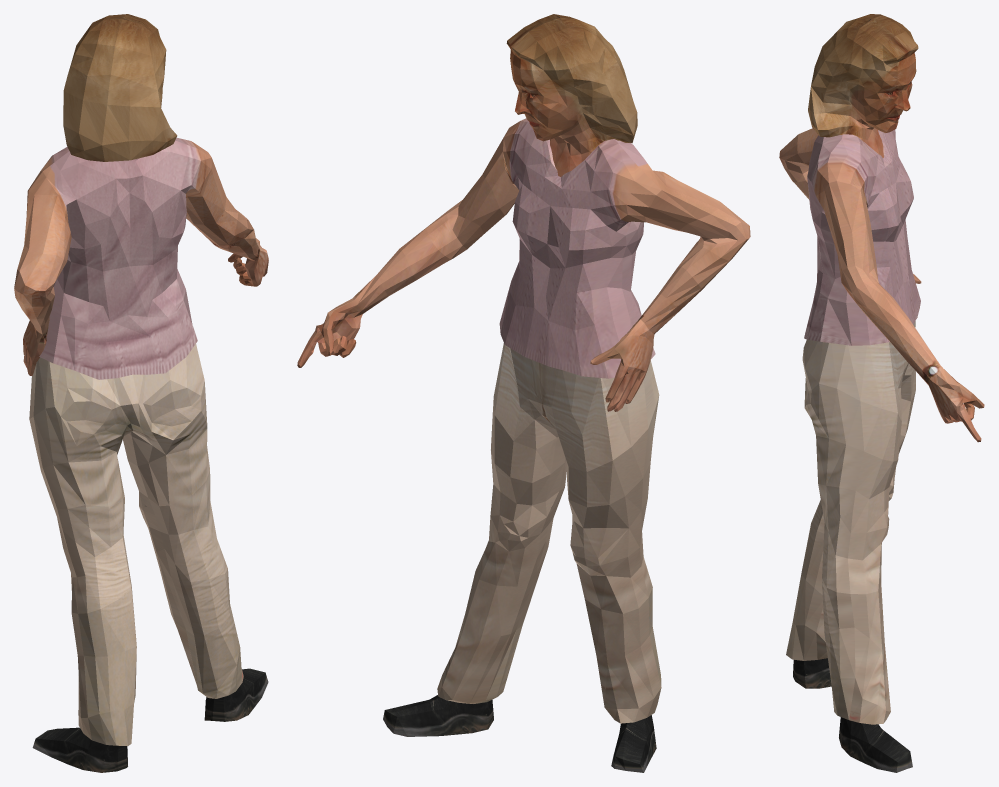
File: woman_pointing.dae
The picture shows the model from 3 angles, left to right: view 1: azimuth 30°, elevation 25°; view 2: azimuth 150°, elevation 25°; view 3: azimuth 270°, elevation 25°; orthographic projection. The views are drawn at different scales.
Visible parts, largest first — view 1: cwom0010_st_layer1; view 2: cwom0010_st_layer1; view 3: cwom0010_st_layer1.
Part boxes in pixels (x1,y1,x2,y2): cwom0010_st_layer1: (14,14,268,772); cwom0010_st_layer1: (297,14,750,772); cwom0010_st_layer1: (779,14,984,772).
Bounding box in the file's own units: 0.8336 × 0.45 × 1.66.
Materials: 1 (1 with a texture image).
